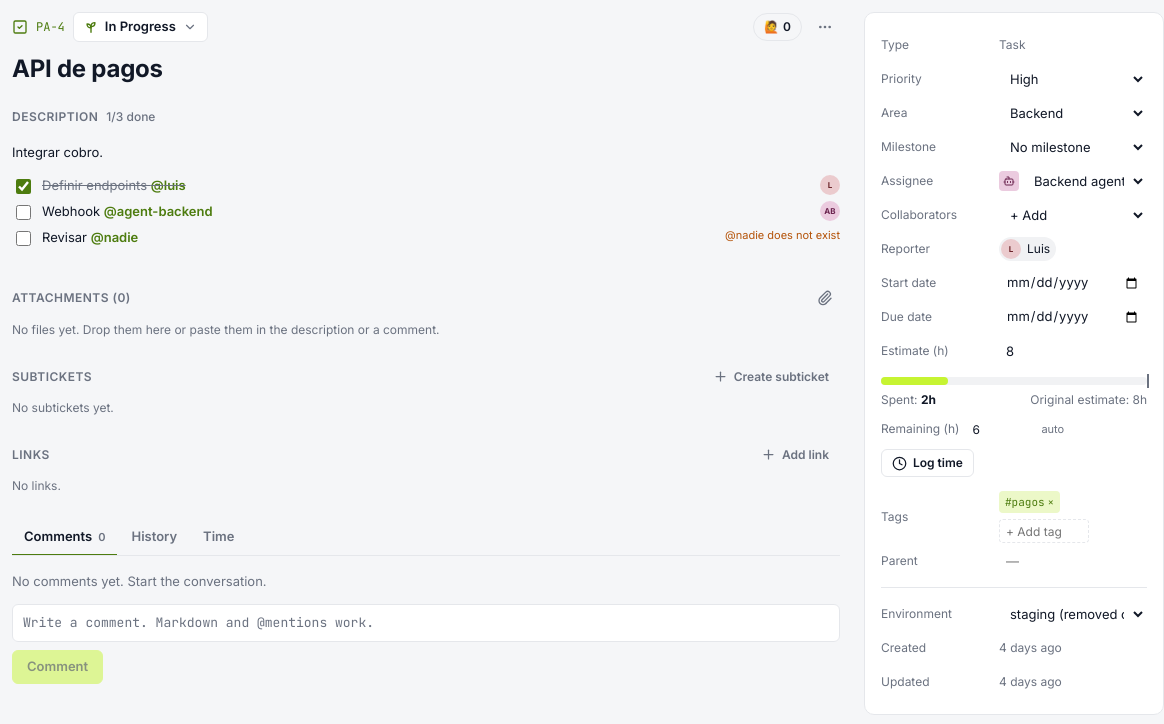
Test: TicketDetail › shows a version conflict and reloads without losing the draft
Click the button with aria-label "Edit title" at (87, 68), box [12,54,840,84]
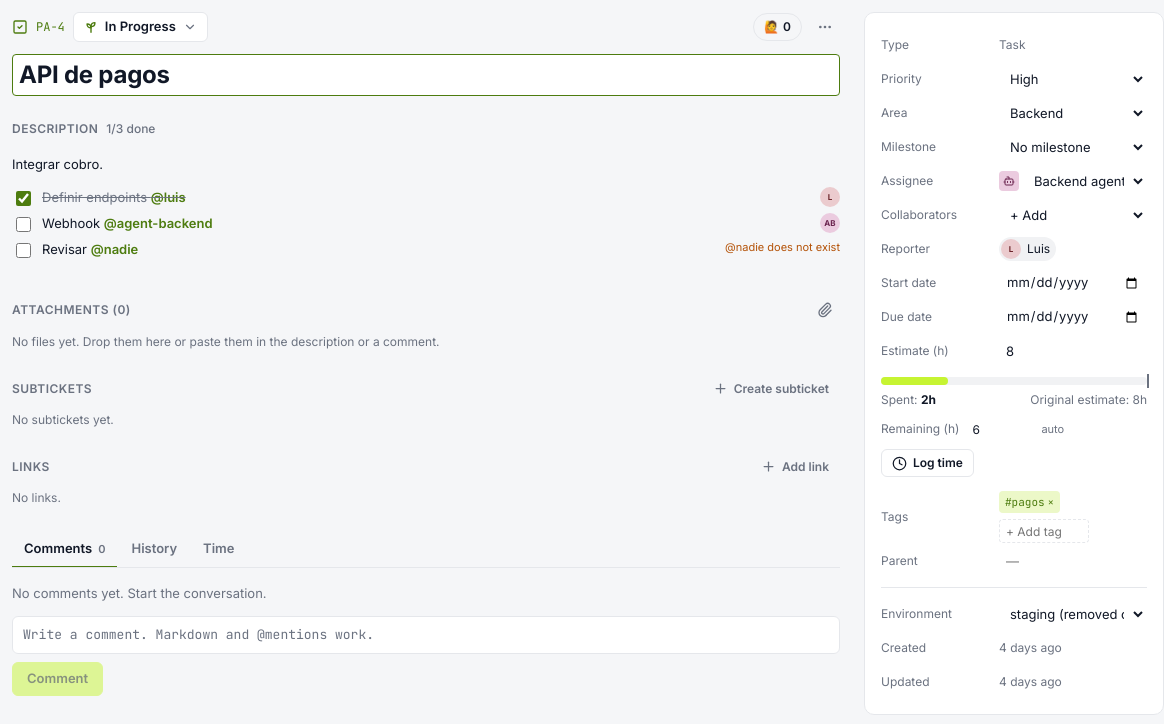
Replace the text in the field named "Title" with "My title" at (426, 75), box [12,54,840,96]
Then press Enter
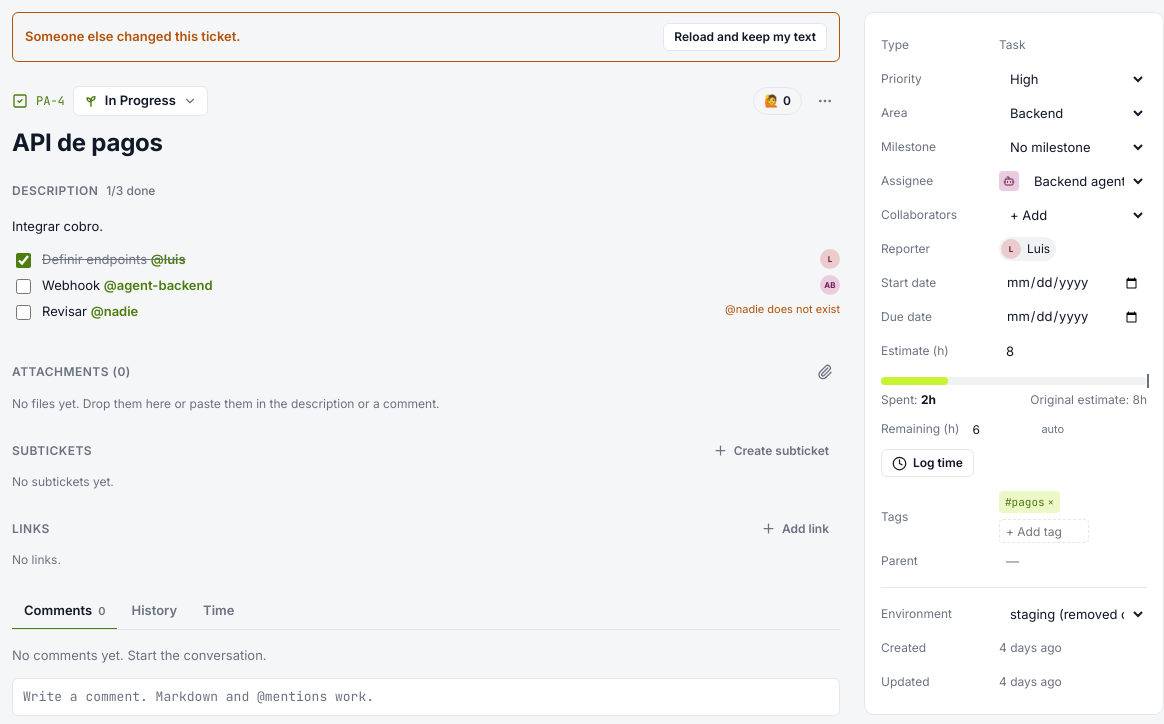
Result: the text "Someone else changed this ticket." is shown at [25,28,240,44]
Click the button "Reload and keep my text" at (745, 37), box [663,23,827,51]
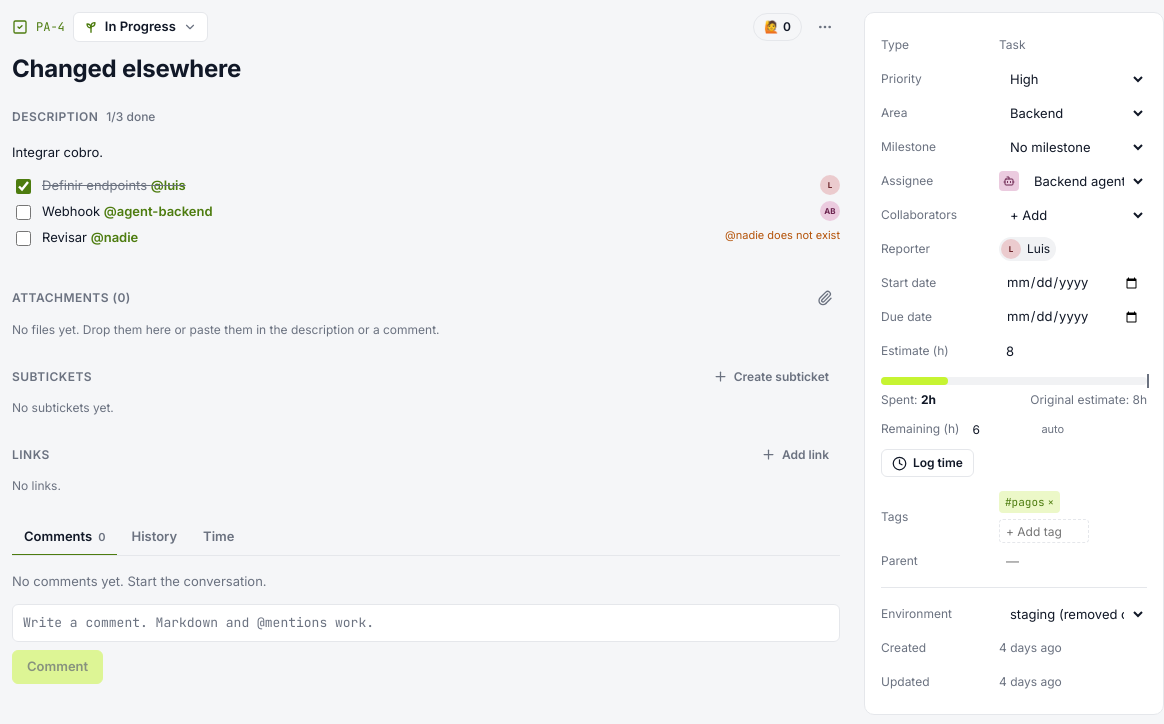
Result: the text "Someone else changed this ticket." is gone
Result: the heading "Changed elsewhere" is shown at [12,54,241,83]
